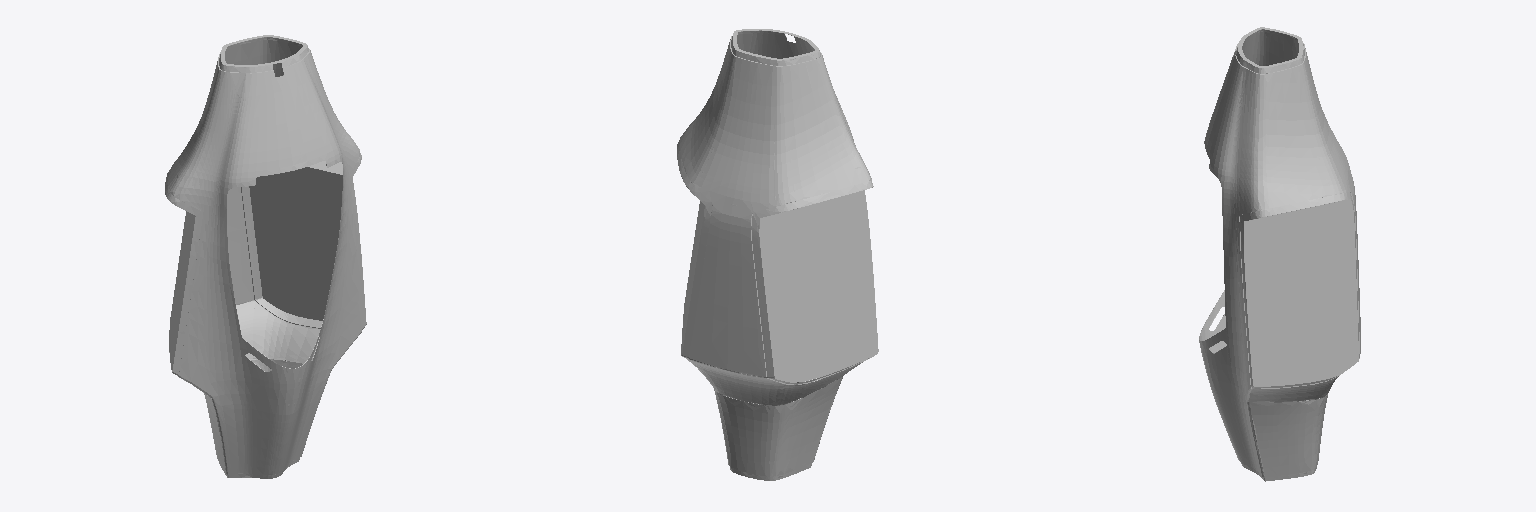
Rendered from Mono_optimized.obj.
3 renders of one model, left to right at view 1: azimuth 30°, elevation 25°; view 2: azimuth 150°, elevation 25°; view 3: azimuth 270°, elevation 25°, orthographic.
Visible parts, largest first — view 1: 11m outer skin 0.9 thick; view 2: 11m outer skin 0.9 thick; view 3: 11m outer skin 0.9 thick.
Boxes of the visible parts, x1,y1,x2,y2 form: 11m outer skin 0.9 thick: [165, 35, 366, 478]; 11m outer skin 0.9 thick: [677, 29, 878, 480]; 11m outer skin 0.9 thick: [1199, 27, 1360, 481].
Size of the model in its own units: 992 by 2032 by 718.